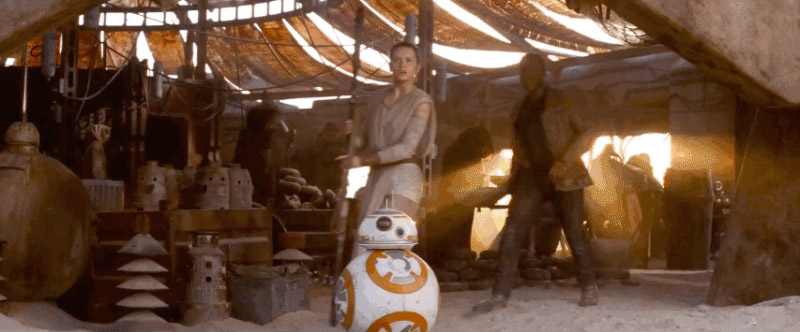bb8: (332, 208, 442, 332)
